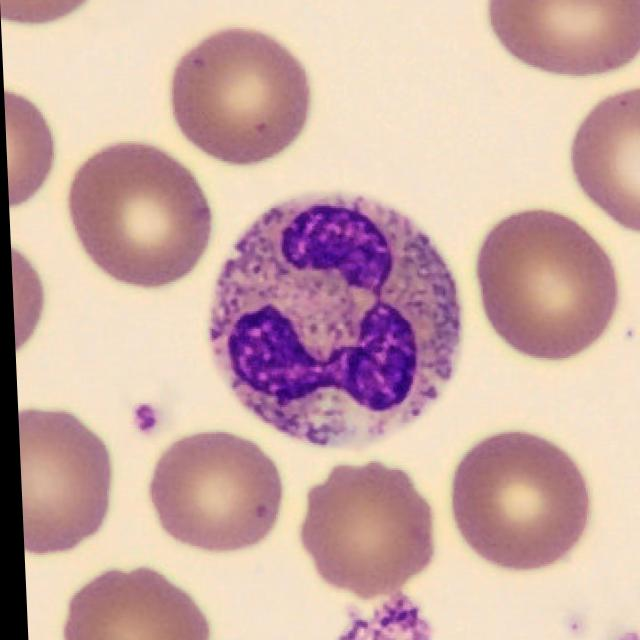Neutrofilo segmentado: (204, 193, 460, 450)
